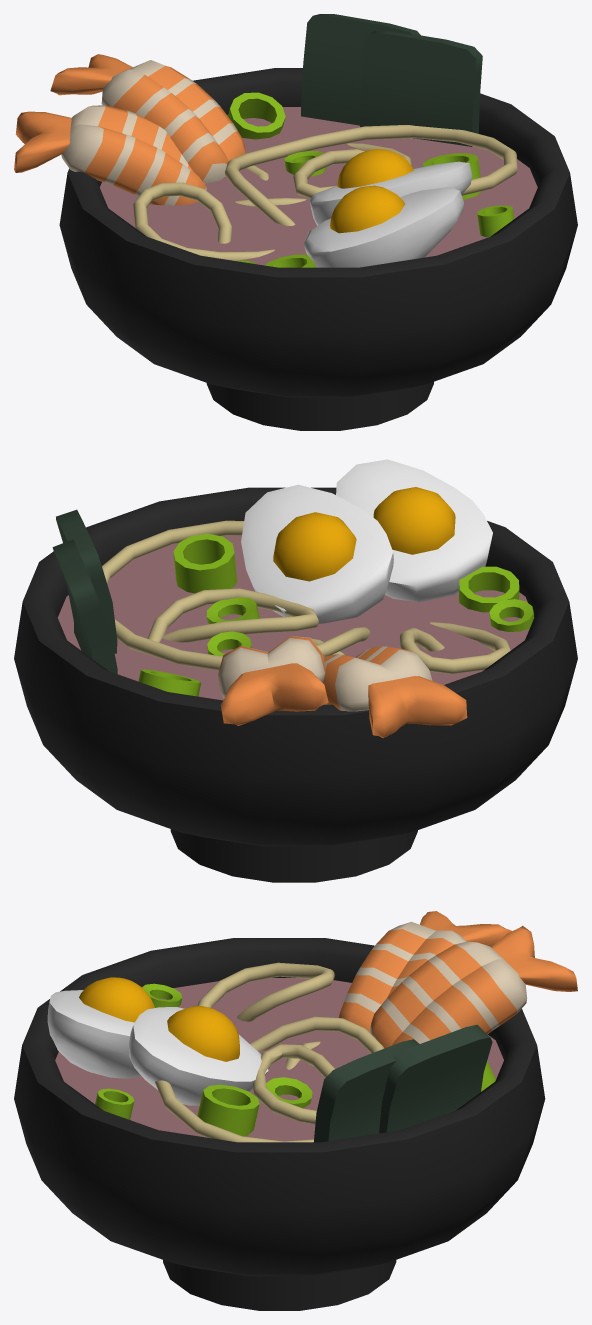
The model's file is ramen.glb.
The picture shows the model from 3 angles, top to bottom: view 1: azimuth 30°, elevation 25°; view 2: azimuth 150°, elevation 25°; view 3: azimuth 270°, elevation 25°; orthographic projection. The views are drawn at different scales.
Visible parts, largest first — view 1: Food_Ramen; view 2: Food_Ramen; view 3: Food_Ramen.
Boxes of the visible parts, left/top/right/bottom form: Food_Ramen: left=14, top=14, right=577, bottom=430; Food_Ramen: left=14, top=459, right=577, bottom=882; Food_Ramen: left=14, top=911, right=577, bottom=1310.
Size of the model in its own units: 0.9934 by 0.5834 by 1.05.
Materials: 1 (1 with a texture image).
